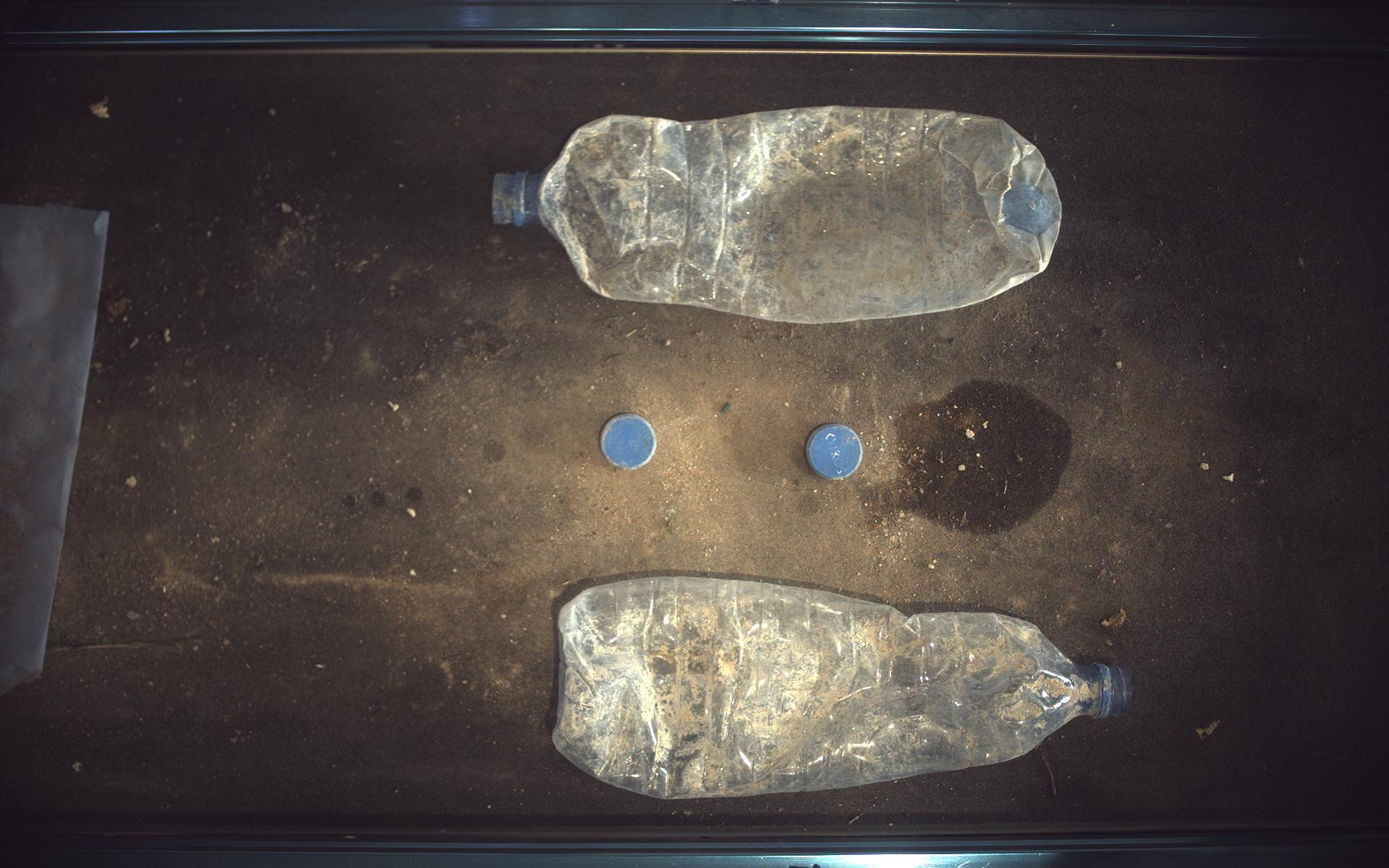general_w: (553, 578, 1134, 800), (495, 105, 1064, 323), (807, 424, 865, 480), (600, 414, 657, 469)
